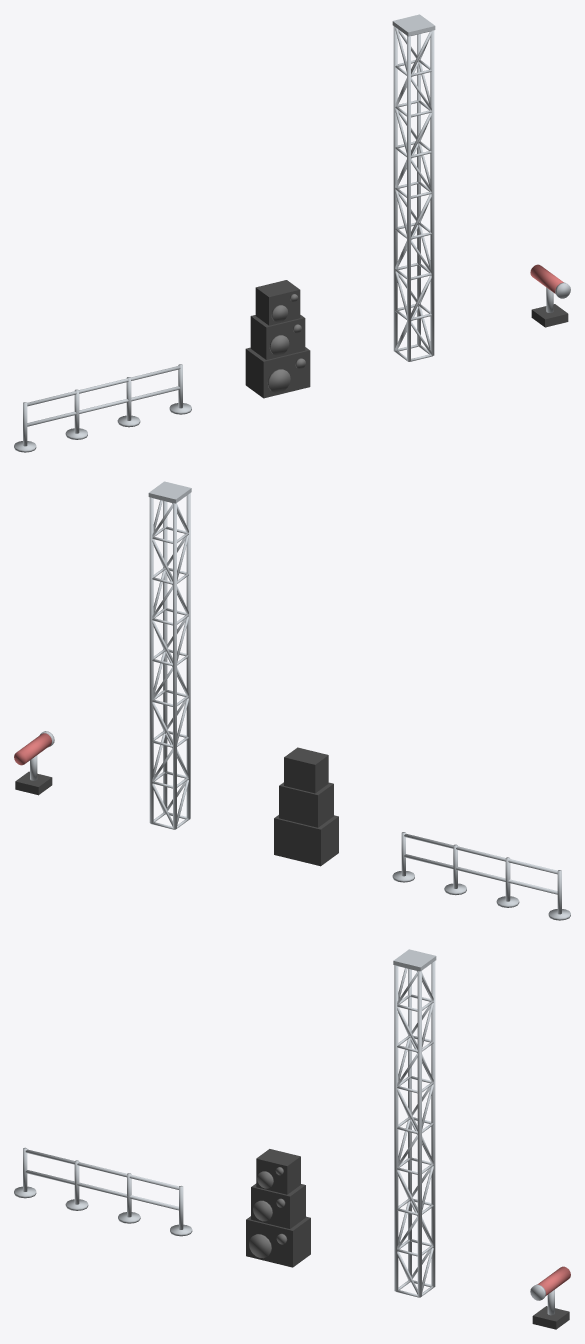
File: crowd_props.glb
The picture shows the model from 3 angles, top to bottom: view 1: azimuth 30°, elevation 25°; view 2: azimuth 150°, elevation 25°; view 3: azimuth 330°, elevation 25°; orthographic projection.
Parts seen in each view (by area): view 1: speaker_cab_1, speaker_cab_2, truss_upright_3, truss_upright_1, speaker_cab_3, truss_upright_4, truss_upright_2, barrier_rail_2, barrier_rail_1, truss_top_plate, cannon_base; view 2: speaker_cab_1, speaker_cab_2, speaker_cab_3, truss_upright_2, truss_upright_4, truss_upright_1, truss_upright_3, barrier_rail_2, barrier_rail_1, truss_top_plate, cannon_barrel, cannon_base; view 3: speaker_cab_1, truss_upright_3, speaker_cab_2, truss_upright_4, truss_upright_2, speaker_cab_3, truss_upright_1, barrier_rail_1, barrier_rail_2, truss_top_plate, cannon_base.
Boxes of the visible parts, box(x1,y1,x2,y2) form: speaker_cab_1: box(245, 347, 310, 398); speaker_cab_2: box(250, 315, 305, 359); truss_upright_3: box(430, 30, 434, 355); truss_upright_1: box(393, 26, 397, 351); speaker_cab_3: box(255, 280, 300, 325); truss_upright_4: box(407, 36, 410, 361); truss_upright_2: box(417, 34, 420, 345); barrier_rail_2: box(27, 366, 180, 406); barrier_rail_1: box(27, 386, 180, 426); truss_top_plate: box(392, 14, 435, 36); cannon_base: box(531, 304, 568, 327); speaker_cab_1: box(274, 815, 338, 866); speaker_cab_2: box(279, 782, 333, 827); speaker_cab_3: box(284, 747, 328, 793); truss_upright_2: box(149, 497, 153, 823); truss_upright_4: box(186, 493, 190, 819); truss_upright_1: box(173, 503, 176, 829); truss_upright_3: box(163, 501, 167, 812); barrier_rail_2: box(404, 833, 557, 874); barrier_rail_1: box(404, 854, 557, 894); truss_top_plate: box(148, 481, 191, 503); cannon_barrel: box(14, 733, 51, 765); cannon_base: box(15, 771, 52, 795); speaker_cab_1: box(246, 1216, 310, 1267); truss_upright_3: box(417, 971, 421, 1297); speaker_cab_2: box(251, 1183, 305, 1228); truss_upright_4: box(394, 965, 398, 1291); truss_upright_2: box(431, 961, 435, 1287); speaker_cab_3: box(256, 1149, 300, 1194); truss_upright_1: box(408, 969, 411, 1281); barrier_rail_1: box(25, 1170, 178, 1210); barrier_rail_2: box(25, 1149, 178, 1189); truss_top_plate: box(393, 949, 436, 971); cannon_base: box(532, 1306, 569, 1329).
Bounding box in the file's own units: 14.05 × 8.13 × 1.22.
